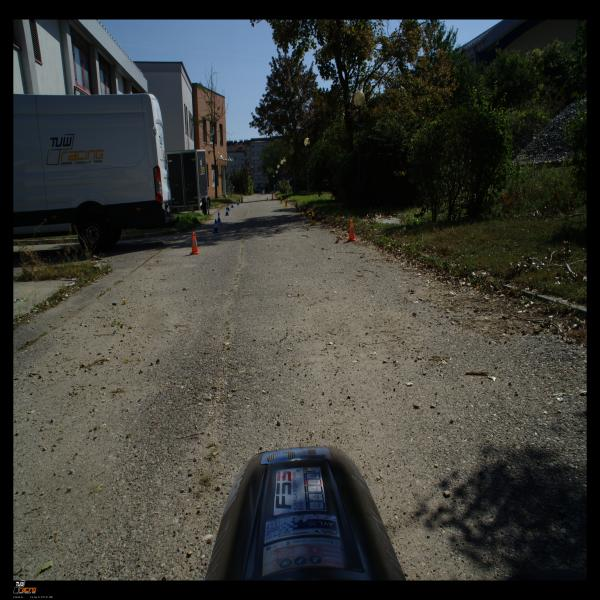blue_cone: (213, 220, 220, 234), (216, 212, 222, 223), (225, 207, 229, 216), (236, 200, 240, 205), (231, 202, 234, 208), (228, 203, 230, 210)
large_orange_cone: (240, 196, 244, 203), (271, 193, 274, 200)
orange_cone: (189, 232, 202, 255), (348, 220, 357, 241)
yellow_cone: (310, 212, 317, 226), (302, 206, 308, 217), (310, 209, 314, 222), (294, 202, 299, 211), (280, 197, 284, 204), (284, 199, 288, 206), (266, 196, 269, 202), (280, 196, 282, 202), (239, 199, 240, 203)
